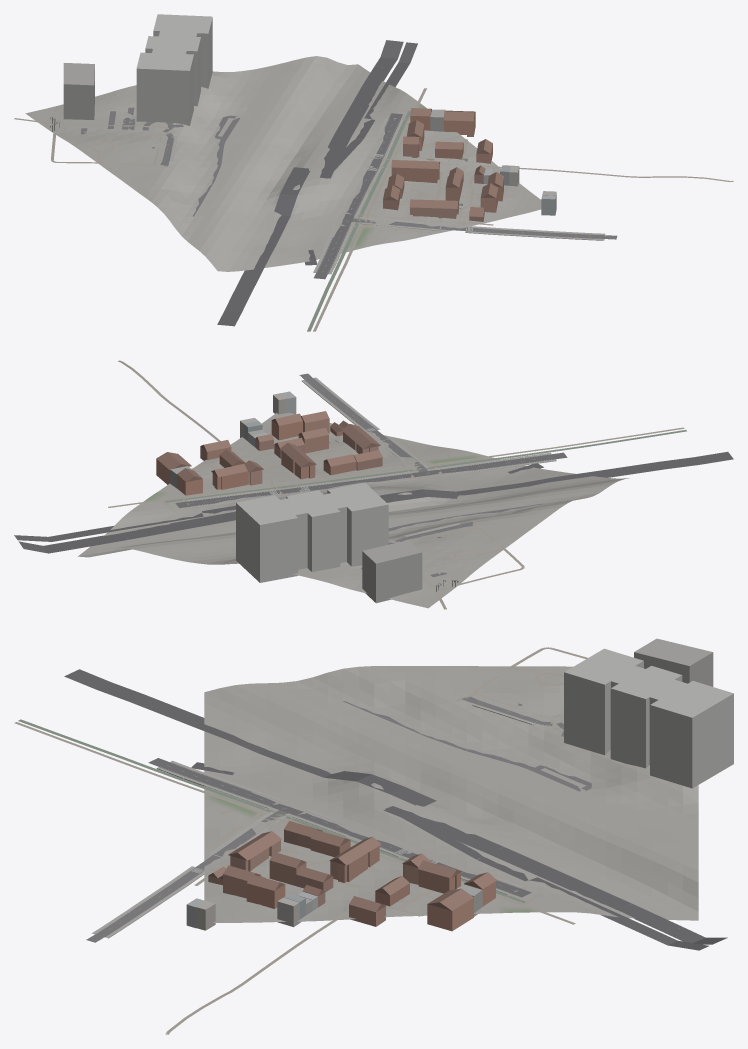
File: tile_-7_5.glb
3 views of the same model, one above another, from view 1: azimuth 30°, elevation 25°; view 2: azimuth 150°, elevation 25°; view 3: azimuth 270°, elevation 25° (orthographic). The views are drawn at different scales.
Parts seen in each view (by area): view 1: terrain, buildings, roads, paths, sidewalks; view 2: terrain, buildings, roads, paths, sidewalks; view 3: terrain, buildings, roads, paths, sidewalks.
Part boxes in pixels (x1,y1,x2,y2): terrain: (25,56,541,271); buildings: (63,14,556,221); roads: (80,40,617,326); paths: (14,88,733,331); sidewalks: (159,118,605,274); terrain: (78,412,629,608); buildings: (156,391,422,603); roads: (14,373,733,577); paths: (108,360,686,609); sidewalks: (186,377,556,536); terrain: (204,666,698,922); buildings: (186,638,733,931); roads: (64,669,727,950); paths: (14,647,587,1034); sidewalks: (92,699,534,938).
Size of the model in its own units: 423 by 67.81 by 373.
